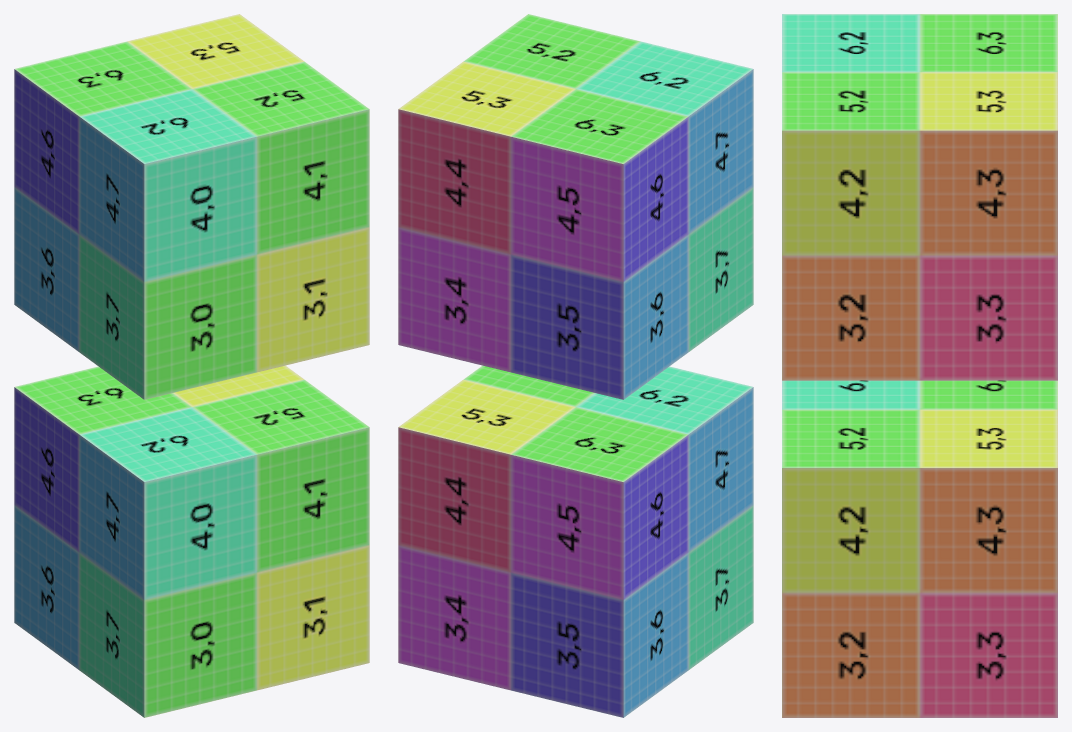
The picture shows the model from 3 angles, left to right: view 1: azimuth 30°, elevation 25°; view 2: azimuth 150°, elevation 25°; view 3: azimuth 270°, elevation 25°; orthographic projection. The views are drawn at different scales.
Parts seen in each view (by area): view 1: Cube.001, Cube; view 2: Cube.001, Cube; view 3: Cube.001, Cube.
Part boxes in pixels (x1,y1,x2,y2): Cube.001: (14,14,369,399); Cube: (14,365,369,717); Cube.001: (398,14,753,399); Cube: (398,365,753,717); Cube.001: (782,14,1057,380); Cube: (782,380,1057,717).
Size of the model in its own units: 2 by 4.7 by 2.
Materials: 1 (1 with a texture image).
